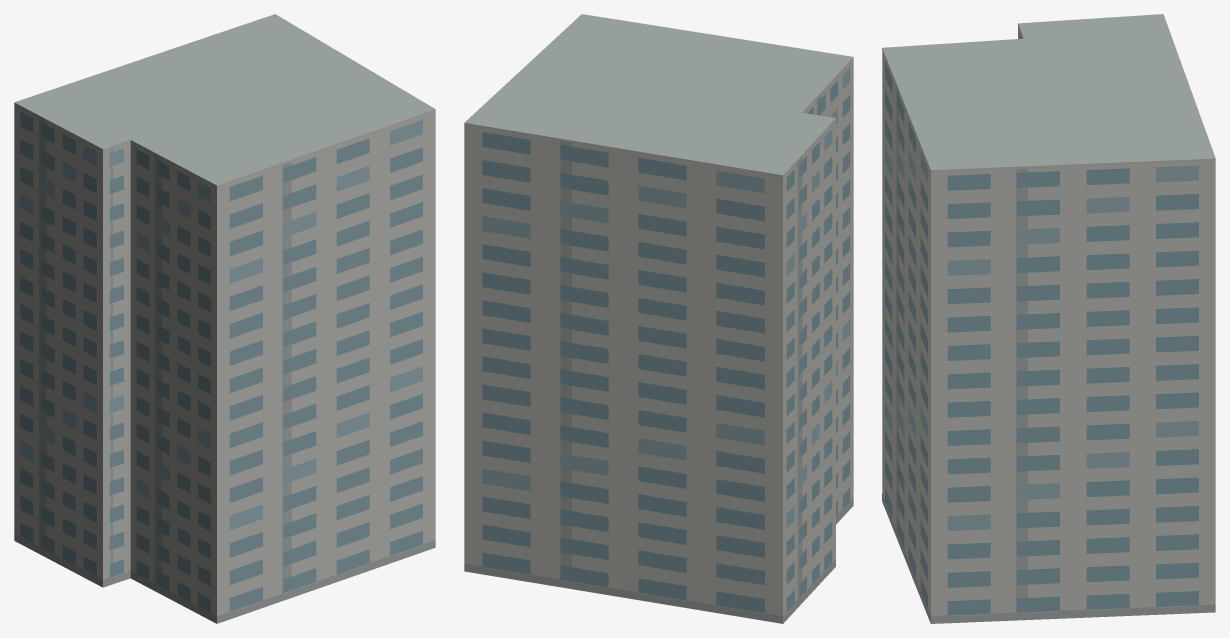
The model's file is residential-e8b7e0b4-6b0f-45f0-a091-e69071fb6f0a.glb.
3 renders of one model, left to right at view 1: azimuth 30°, elevation 25°; view 2: azimuth 150°, elevation 25°; view 3: azimuth 270°, elevation 25°, orthographic. The views are drawn at different scales.
Parts seen in each view (by area): view 1: residential-e8b7e0b4-6b0f-45f0-a091-e69071fb6f0a.tmp; view 2: residential-e8b7e0b4-6b0f-45f0-a091-e69071fb6f0a.tmp; view 3: residential-e8b7e0b4-6b0f-45f0-a091-e69071fb6f0a.tmp.
Part boxes in pixels (box(x1,y1,x2,y2)): residential-e8b7e0b4-6b0f-45f0-a091-e69071fb6f0a.tmp: box(14, 14, 435, 623); residential-e8b7e0b4-6b0f-45f0-a091-e69071fb6f0a.tmp: box(464, 14, 853, 623); residential-e8b7e0b4-6b0f-45f0-a091-e69071fb6f0a.tmp: box(882, 14, 1215, 623).
Bounding box in the file's own units: 36.02 × 48.8 × 32.53.
